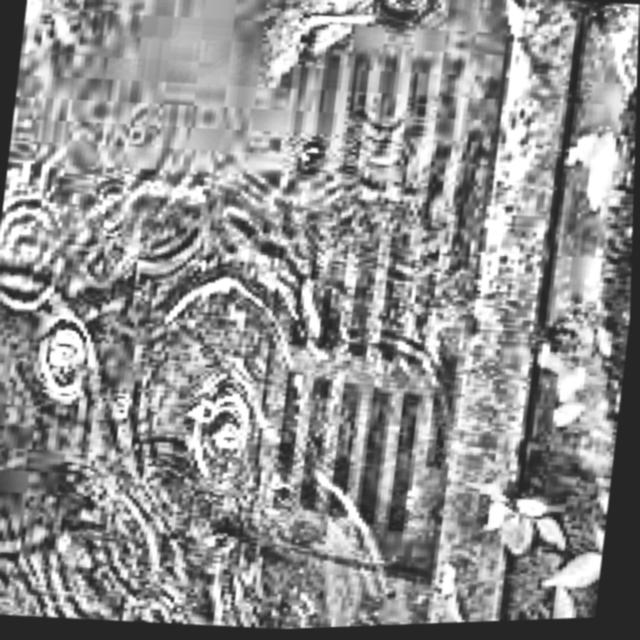clogged_drains: (271, 30, 494, 567)
